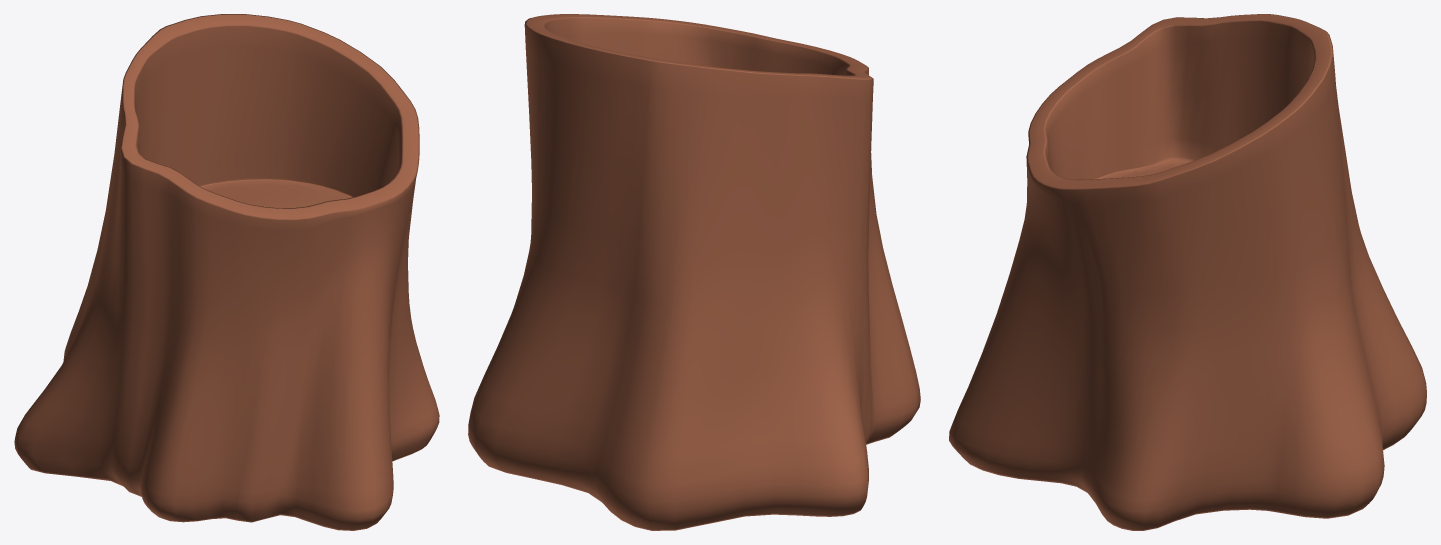
The model's file is houdai_ue.fbx.
3 renders of one model, left to right at view 1: azimuth 30°, elevation 25°; view 2: azimuth 150°, elevation 25°; view 3: azimuth 270°, elevation 25°, orthographic. The views are drawn at different scales.
Visible parts, largest first — view 1: houdai_ue; view 2: houdai_ue; view 3: houdai_ue.
Part boxes in pixels (x1,y1,x2,y2): houdai_ue: (14,14,439,530); houdai_ue: (468,14,920,530); houdai_ue: (949,14,1426,530).
Bounding box in the file's own units: 234 × 244 × 258.
